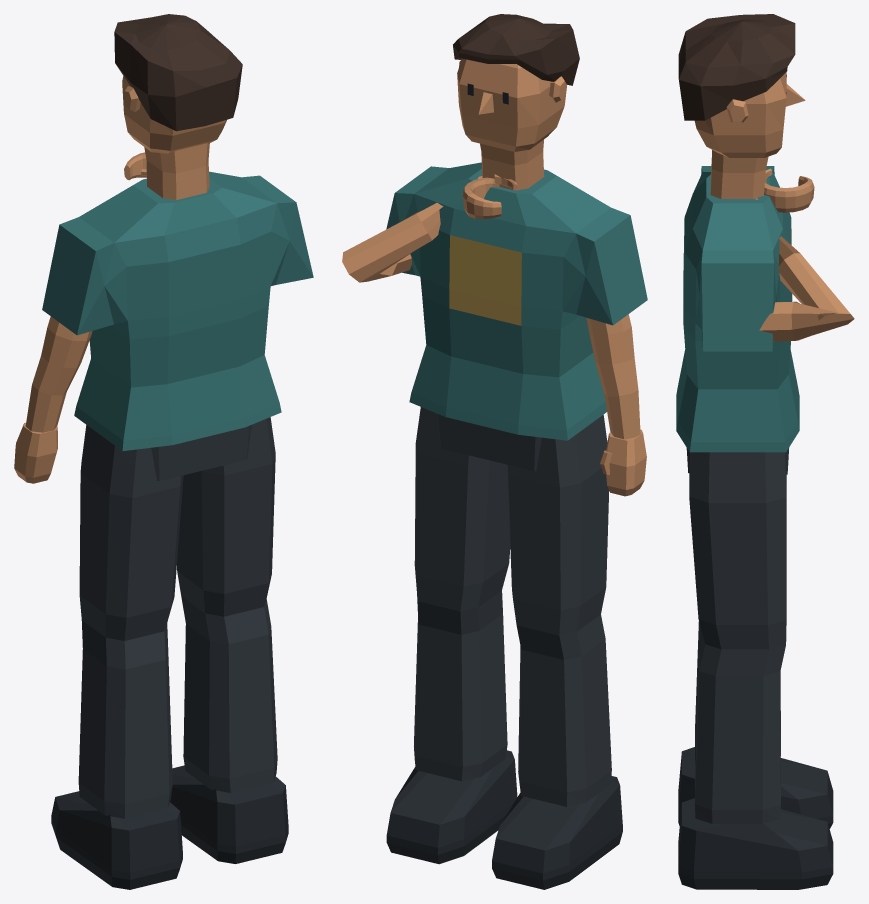
The model's file is lwf_attendee_male_drinking_soft_v1.glb.
3 renders of one model, left to right at view 1: azimuth 30°, elevation 25°; view 2: azimuth 150°, elevation 25°; view 3: azimuth 270°, elevation 25°, orthographic.
Visible parts, largest first — view 1: Attendee_male_drinking_soft; view 2: Attendee_male_drinking_soft; view 3: Attendee_male_drinking_soft.
Part boxes in pixels (<box>): Attendee_male_drinking_soft: <box>14,14,313,889</box>; Attendee_male_drinking_soft: <box>342,14,647,889</box>; Attendee_male_drinking_soft: <box>676,14,854,889</box>.
Size of the model in its own units: 0.5808 by 1.75 by 0.3445.
Materials: 1 (1 with a texture image).
